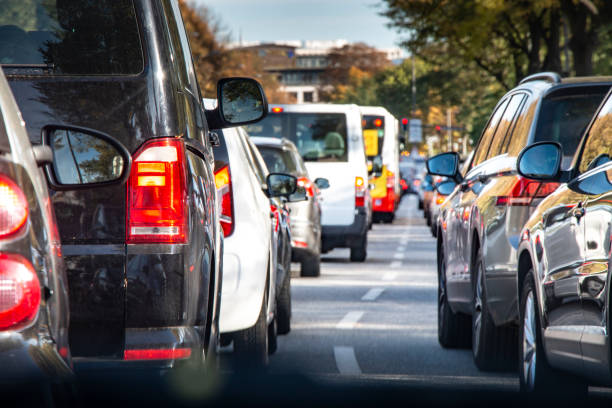car: (7, 12, 214, 378), (436, 76, 558, 351), (211, 111, 291, 352), (253, 93, 362, 247), (250, 129, 330, 271), (359, 108, 399, 226)
